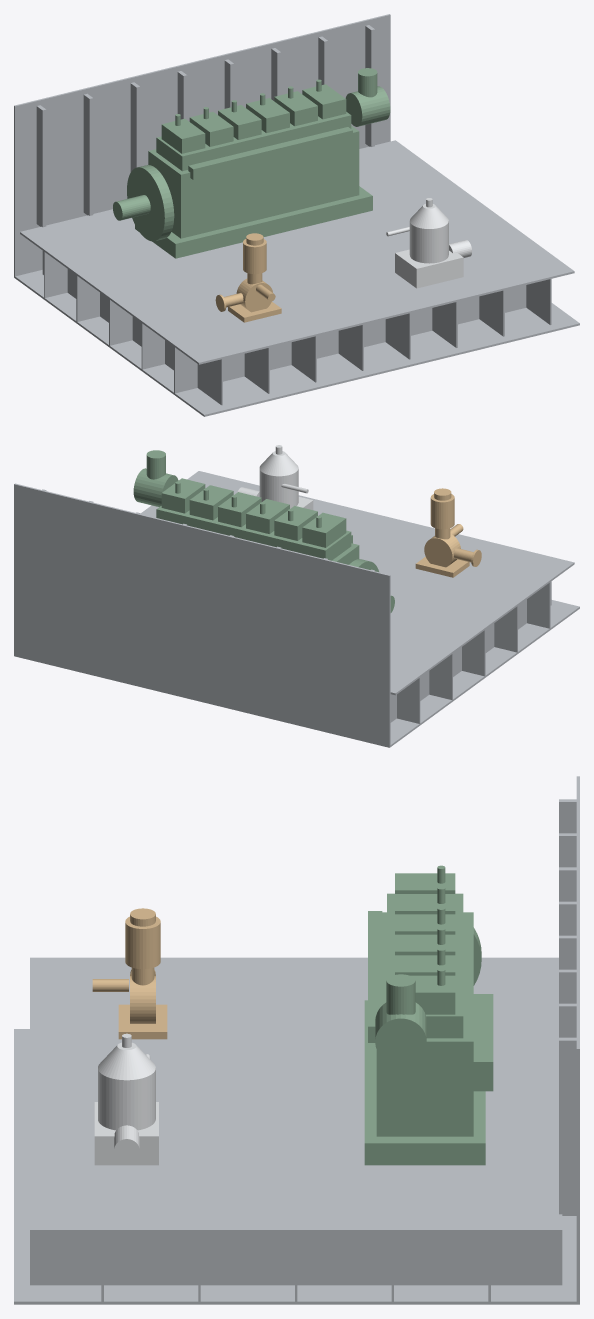
Rendered from nb42_engine_room.glb.
3 views of the same model, one above another, from view 1: azimuth 30°, elevation 25°; view 2: azimuth 150°, elevation 25°; view 3: azimuth 270°, elevation 25° (orthographic). The views are drawn at different scales.
Visible parts, largest first — view 1: NODE_HULL_BLOCK_ER_04, NODE_MAIN_ENGINE_PORT, NODE_FUEL_PURIFIER_01, NODE_SW_COOLING_PUMP_01; view 2: NODE_HULL_BLOCK_ER_04, NODE_MAIN_ENGINE_PORT, NODE_SW_COOLING_PUMP_01, NODE_FUEL_PURIFIER_01; view 3: NODE_HULL_BLOCK_ER_04, NODE_MAIN_ENGINE_PORT, NODE_FUEL_PURIFIER_01, NODE_SW_COOLING_PUMP_01.
Boxes of the visible parts, left/top/right/bottom form: NODE_HULL_BLOCK_ER_04: left=14, top=14, right=579, bottom=416; NODE_MAIN_ENGINE_PORT: left=113, top=68, right=390, bottom=258; NODE_FUEL_PURIFIER_01: left=386, top=198, right=472, bottom=288; NODE_SW_COOLING_PUMP_01: left=215, top=233, right=281, bottom=322; NODE_HULL_BLOCK_ER_04: left=14, top=471, right=579, bottom=747; NODE_MAIN_ENGINE_PORT: left=133, top=450, right=394, bottom=612; NODE_SW_COOLING_PUMP_01: left=415, top=488, right=481, bottom=577; NODE_FUEL_PURIFIER_01: left=237, top=445, right=313, bottom=509; NODE_HULL_BLOCK_ER_04: left=14, top=776, right=579, bottom=1304; NODE_MAIN_ENGINE_PORT: left=364, top=865, right=493, bottom=1165; NODE_FUEL_PURIFIER_01: left=94, top=1033, right=158, bottom=1165; NODE_SW_COOLING_PUMP_01: left=92, top=908, right=167, bottom=1039.
Bounding box in the file's own units: 8 × 3.62 × 7.02.
